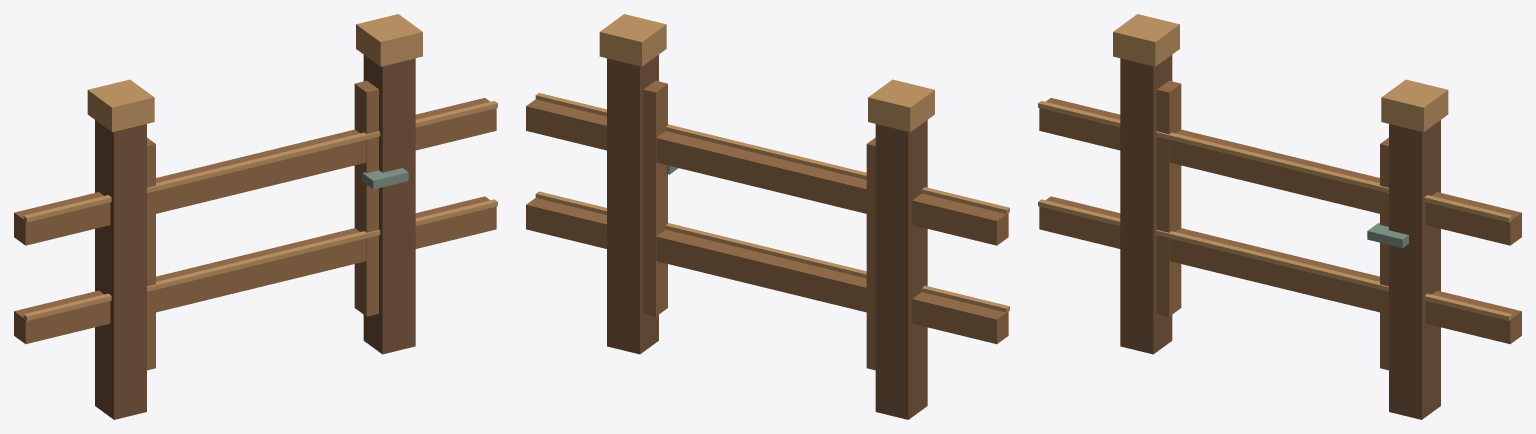
Rendered from fence-gate.glb.
The picture shows the model from 3 angles, left to right: view 1: azimuth 30°, elevation 25°; view 2: azimuth 150°, elevation 25°; view 3: azimuth 330°, elevation 25°; orthographic projection.
Visible parts, largest first — view 1: fence-gate_post, gate_leaf_wood, fence-gate_wood, fence-gate_woodLight, gate_leaf_woodLight, gate_leaf_metal; view 2: fence-gate_post, gate_leaf_wood, fence-gate_wood, fence-gate_woodLight, gate_leaf_woodLight; view 3: fence-gate_post, gate_leaf_wood, fence-gate_wood, fence-gate_woodLight, gate_leaf_woodLight, gate_leaf_metal.
Part boxes in pixels (x1,y1,x2,y2): fence-gate_post: [95, 55, 415, 419]; gate_leaf_wood: [147, 80, 378, 370]; fence-gate_wood: [14, 98, 496, 344]; fence-gate_woodLight: [23, 14, 497, 320]; gate_leaf_woodLight: [147, 131, 380, 291]; gate_leaf_metal: [362, 168, 408, 189]; fence-gate_post: [607, 55, 927, 419]; gate_leaf_wood: [643, 80, 875, 370]; fence-gate_wood: [526, 99, 1008, 344]; fence-gate_woodLight: [535, 14, 1009, 312]; gate_leaf_woodLight: [665, 124, 866, 278]; fence-gate_post: [1120, 55, 1440, 419]; gate_leaf_wood: [1157, 80, 1388, 370]; fence-gate_wood: [1039, 98, 1521, 344]; fence-gate_woodLight: [1038, 14, 1512, 320]; gate_leaf_woodLight: [1155, 131, 1388, 291]; gate_leaf_metal: [1367, 223, 1408, 247].
Bounding box in the file's own units: 2 × 1.28 × 0.205.
